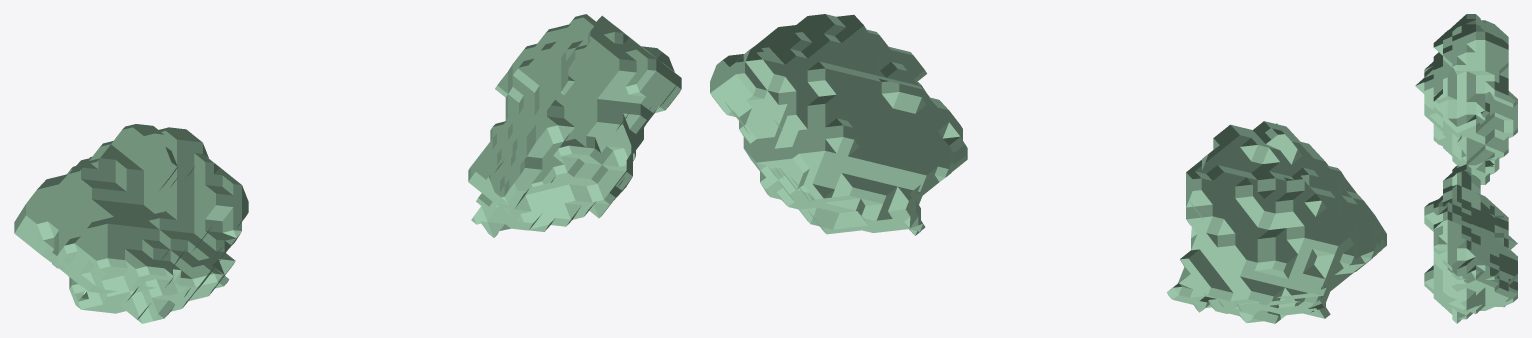
The model's file is region_0105_PCN__paracommissural_nucleus_.glb.
3 renders of one model, left to right at view 1: azimuth 30°, elevation 25°; view 2: azimuth 150°, elevation 25°; view 3: azimuth 270°, elevation 25°, orthographic. The views are drawn at different scales.
Visible parts, largest first — view 1: world; view 2: world; view 3: world.
Part boxes in pixels (x1=…): world: x1=14, y1=14, x2=681, y2=323; world: x1=710, y1=14, x2=1386, y2=323; world: x1=1415, y1=14, x2=1517, y2=323.
Size of the model in its own units: 0.472 by 0.136 by 0.088.
